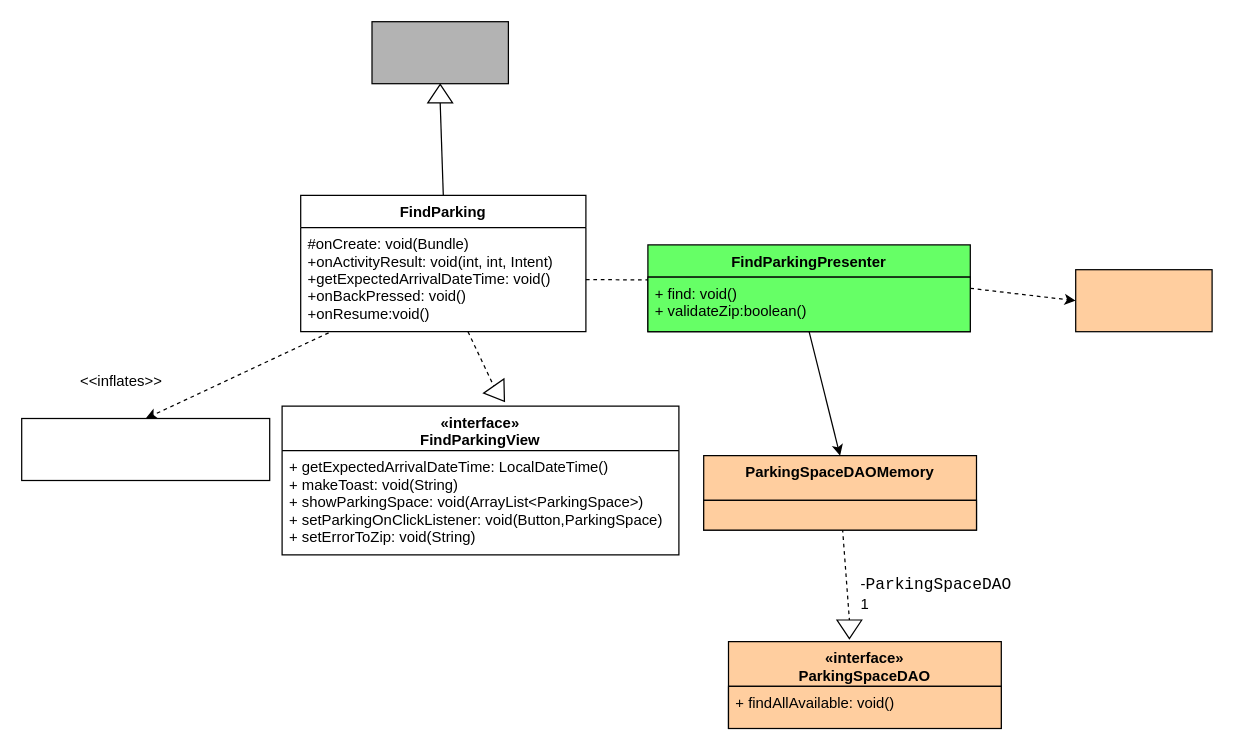
This 1234x754 diagram has some shape labels left out. The shapes that lost their labels are listed below. From the top down, each one's centre as x and y in pixels, then its label:
the point at 439,52: AppCompatActivity
the point at 1143,300: User
the point at 145,448: «layout» activity_find_parking.xml
